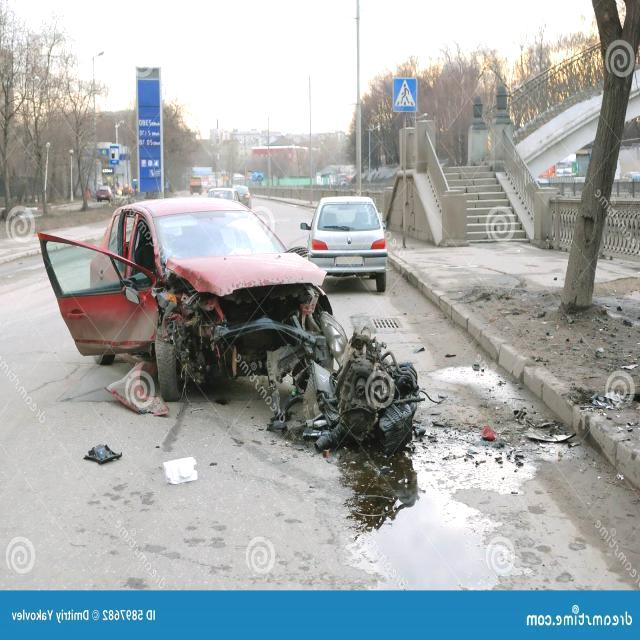accident: (38, 194, 422, 534)
